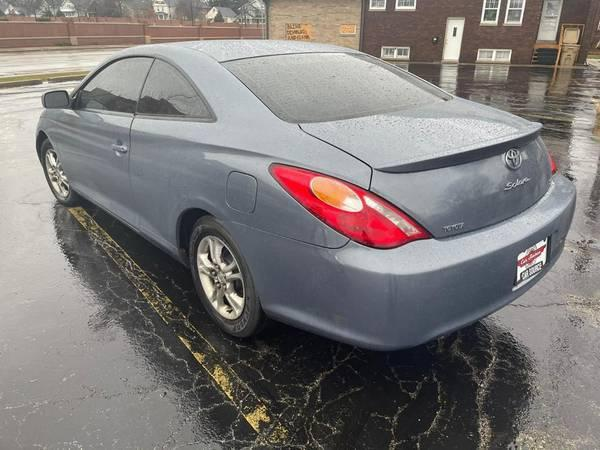Front_Left_Door: (52, 115, 139, 235)
Front_Left_Window: (62, 62, 152, 121)
Left_Taillight: (272, 164, 437, 250)
Rear_Bumper: (219, 166, 576, 347)
Rear_Fender: (199, 121, 370, 249)
Rear_Left_Door: (125, 117, 219, 257)
Rear_Left_Window: (132, 62, 211, 119)
Rear_Windshield: (220, 54, 453, 124)
Roof: (89, 40, 353, 126)
Tailgate: (300, 94, 556, 231)
Wheel: (186, 219, 260, 340), (42, 142, 73, 201)
